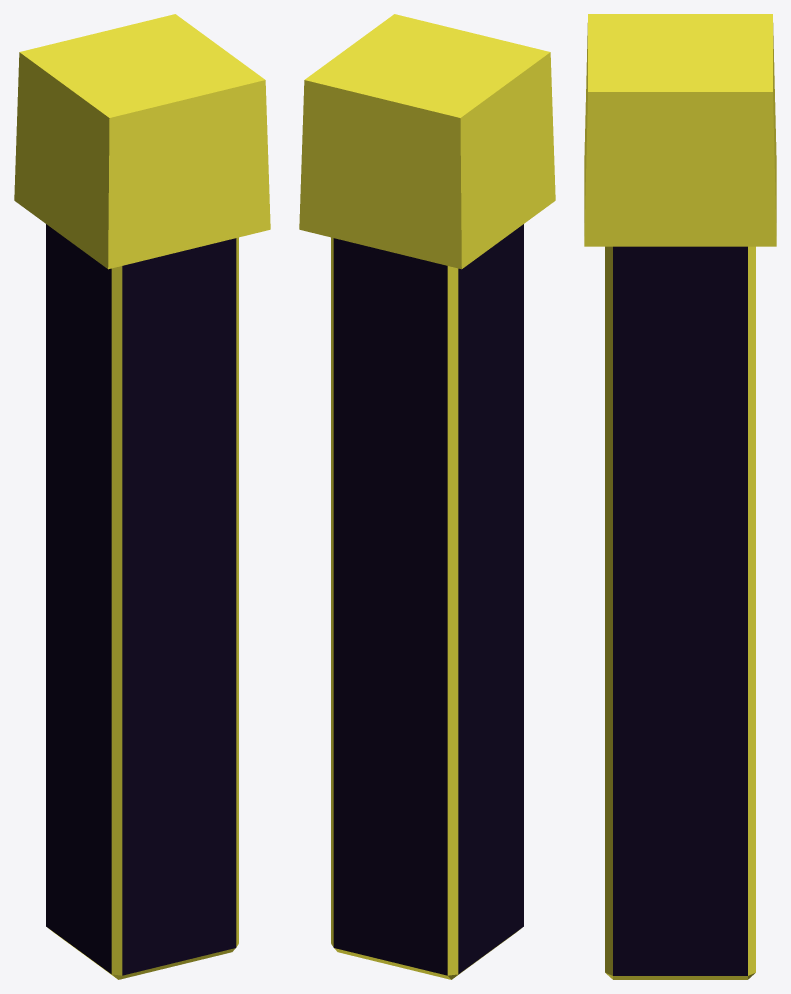
The model's file is Lever_Handle.fbx.
3 views of the same model, side by side, from view 1: azimuth 30°, elevation 25°; view 2: azimuth 150°, elevation 25°; view 3: azimuth 270°, elevation 25° (orthographic). The views are drawn at different scales.
Visible parts, largest first — view 1: Cube.001; view 2: Cube.001; view 3: Cube.001.
Part boxes in pixels (<box>): Cube.001: <box>14,14,270,979</box>; Cube.001: <box>299,14,555,979</box>; Cube.001: <box>584,14,776,979</box>.
Size of the model in its own units: 26.22 by 135 by 26.22.
